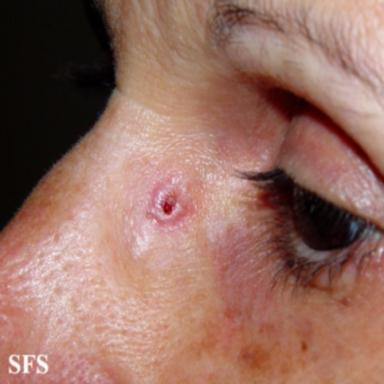basal-cell-carcinoma: (143, 172, 197, 231)
